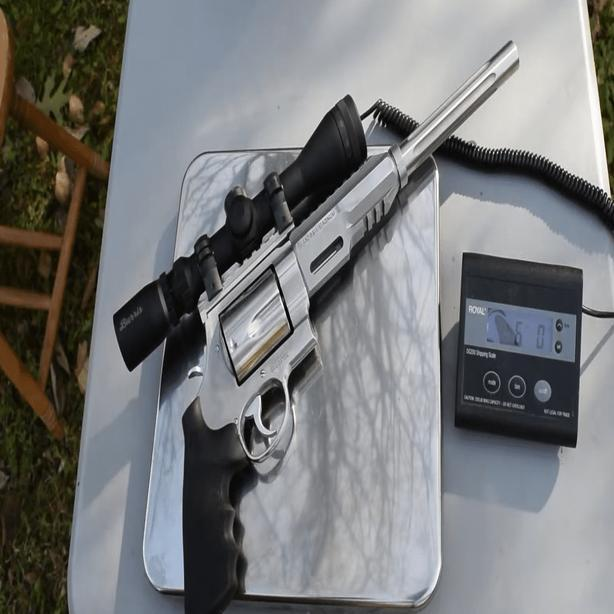Firearm: (104, 40, 577, 608)
